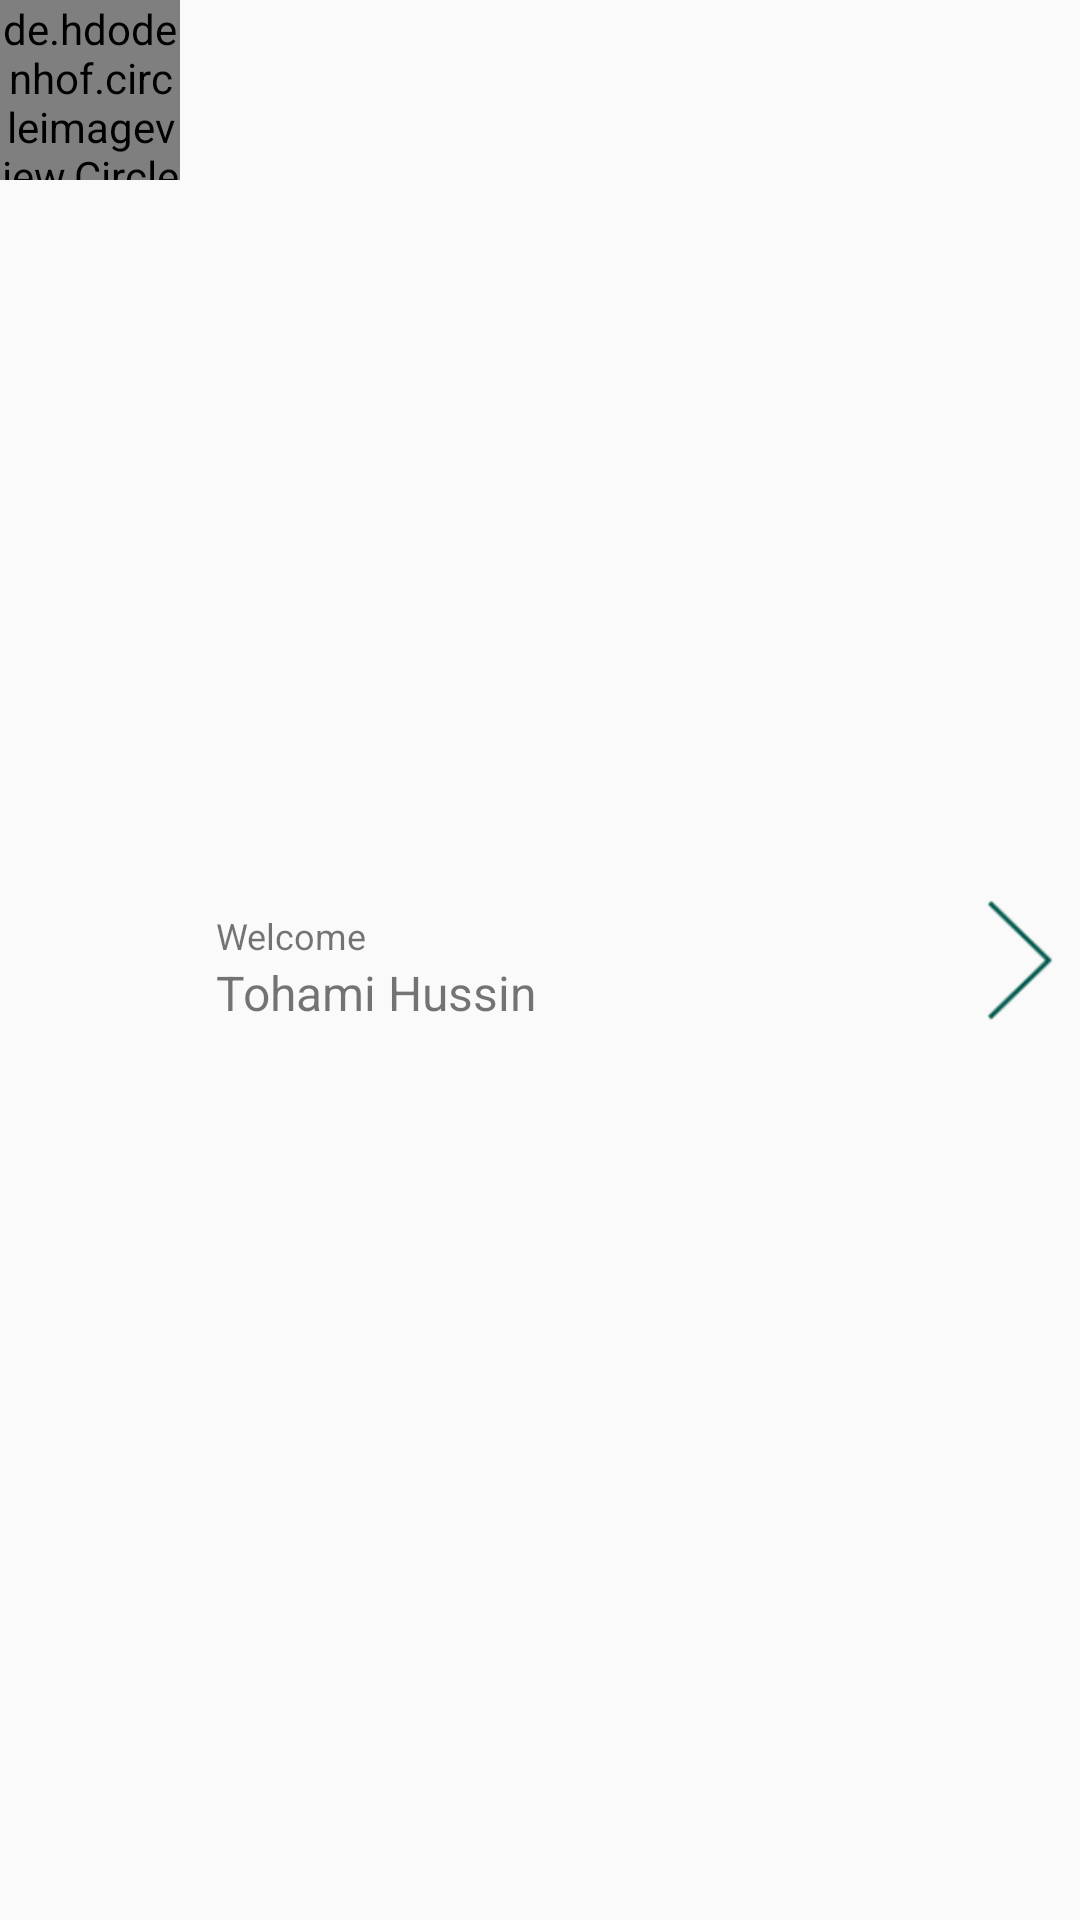

Named icons in this screenshot (1080*1920) and their bounding boxes, (x1, y1, x2, y2):
arrow: (988, 901, 1052, 1020)
